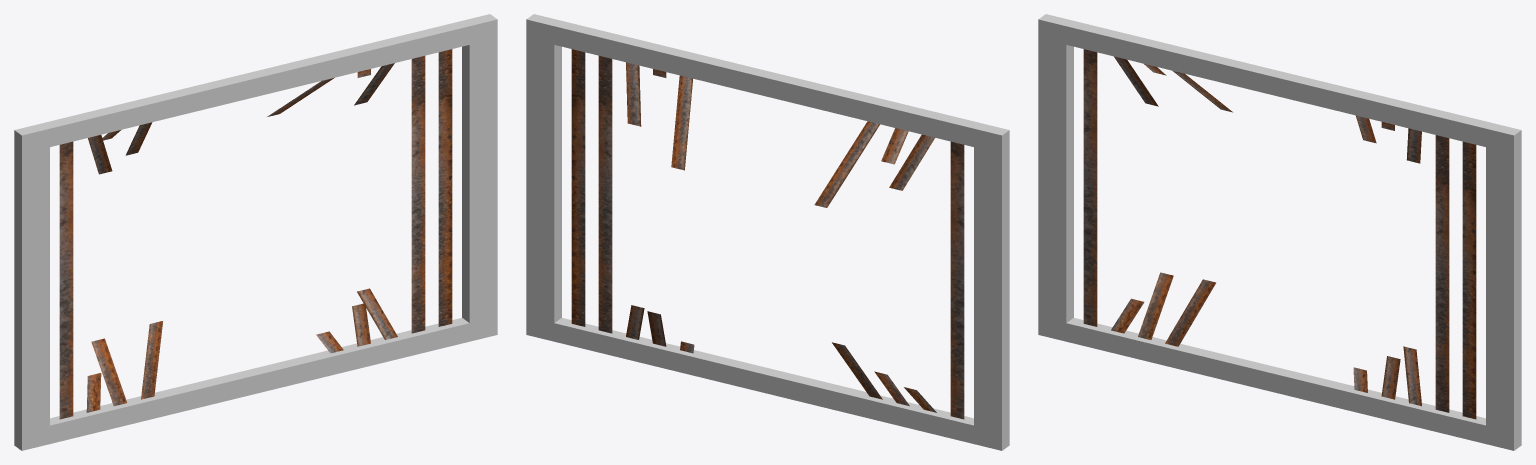
The model's file is PSX Vent.fbx.
3 renders of one model, left to right at view 1: azimuth 30°, elevation 25°; view 2: azimuth 150°, elevation 25°; view 3: azimuth 330°, elevation 25°, orthographic.
Visible parts, largest first — view 1: Cube; view 2: Cube; view 3: Cube.
Boxes of the visible parts, bbox=[...] form: Cube: bbox=[14, 14, 497, 450]; Cube: bbox=[526, 14, 1009, 450]; Cube: bbox=[1038, 14, 1521, 450].
Bounding box in the file's own units: 316 × 200 × 46.08.
Materials: 2 (1 with a texture image).
